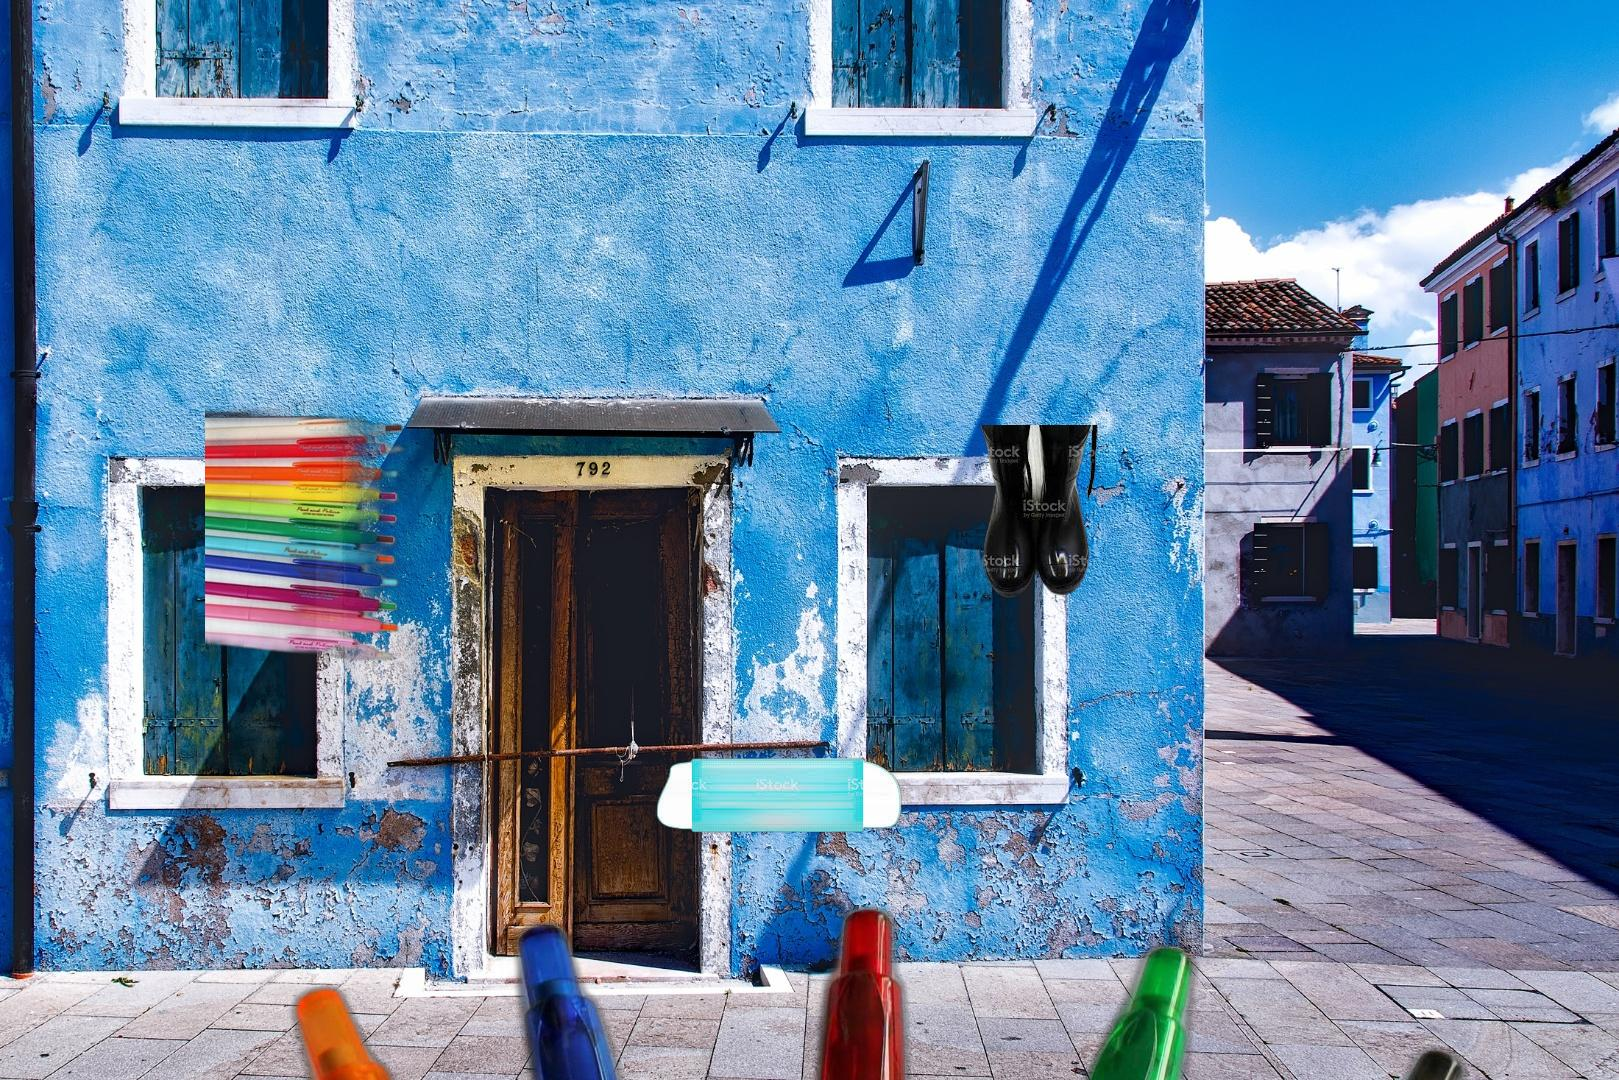penholder: (237, 896, 1480, 1080), (205, 364, 430, 687)
shoes: (978, 425, 1099, 601)
trash: (655, 755, 903, 835)
